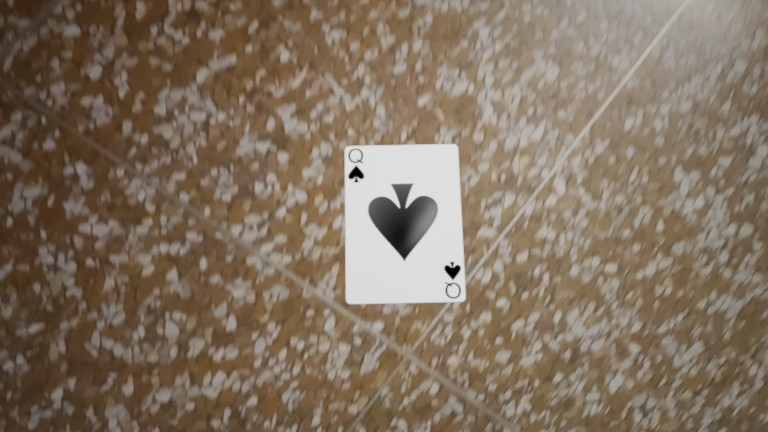queen_of_spades: (441, 261, 465, 299), (346, 148, 367, 183)
